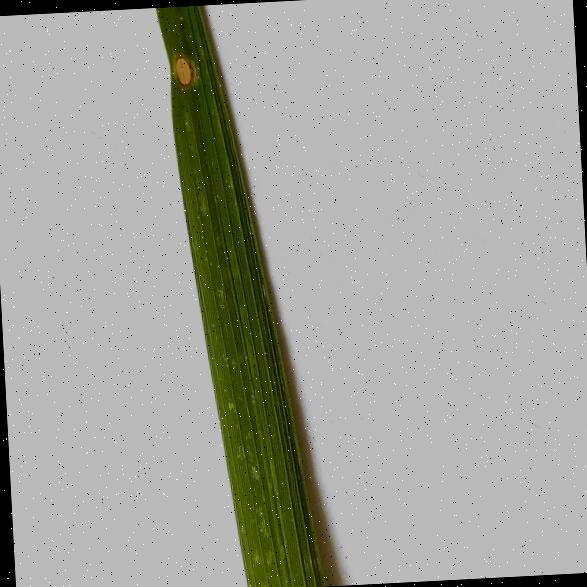Leaf_smut: (159, 38, 198, 89)
